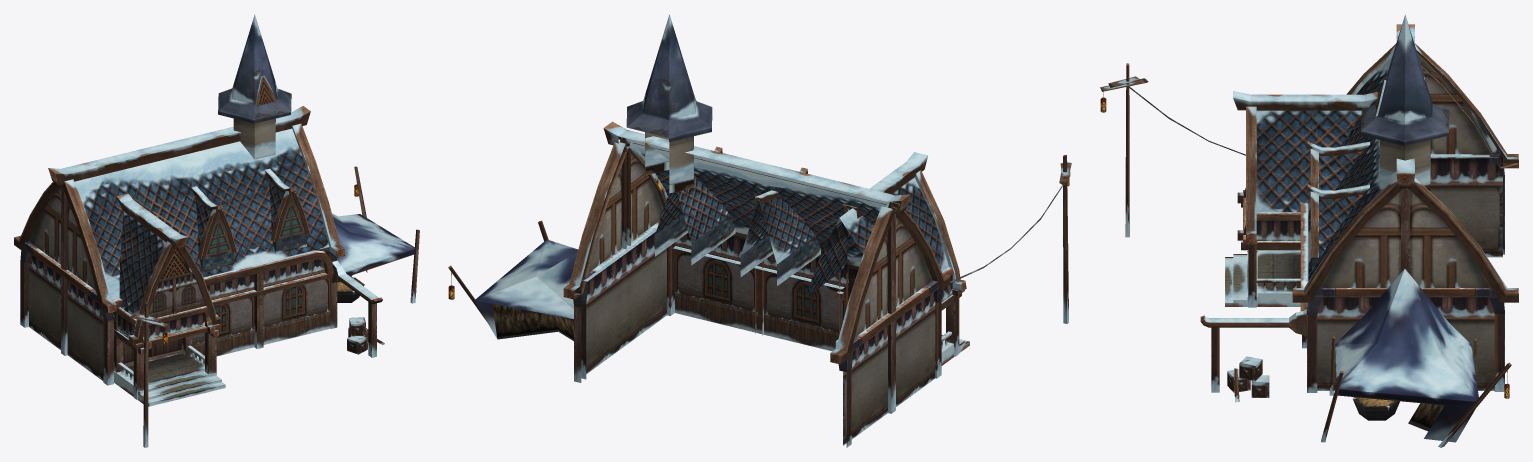
Rendered from yw_xuesebingfeng_fangzi01.FBX.
3 renders of one model, left to right at view 1: azimuth 30°, elevation 25°; view 2: azimuth 150°, elevation 25°; view 3: azimuth 270°, elevation 25°, orthographic. The views are drawn at different scales.
Parts seen in each view (by area): view 1: yw_xuesebingfeng_fangzi01; view 2: yw_xuesebingfeng_fangzi01; view 3: yw_xuesebingfeng_fangzi01.
Boxes of the visible parts, x1,y1,x2,y2 form: yw_xuesebingfeng_fangzi01: (14, 14, 419, 447); yw_xuesebingfeng_fangzi01: (448, 14, 1071, 447); yw_xuesebingfeng_fangzi01: (1100, 14, 1518, 447).
Size of the model in its own units: 1986 by 1471 by 1577.
